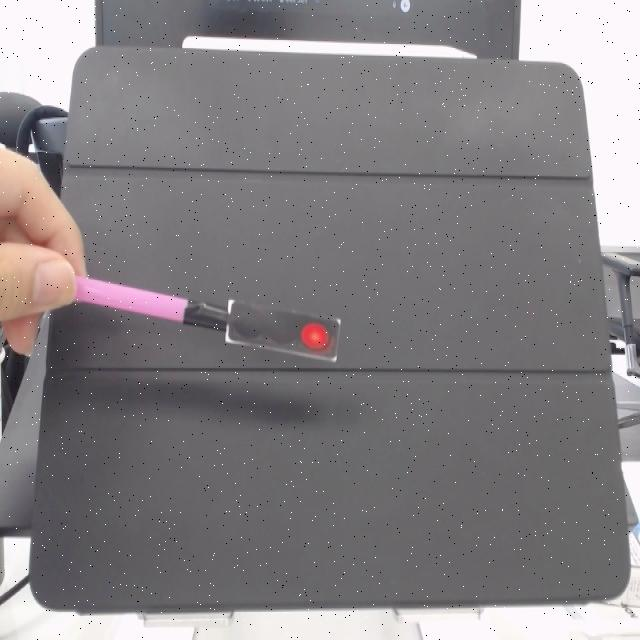traffic light: (226, 300, 343, 368)
